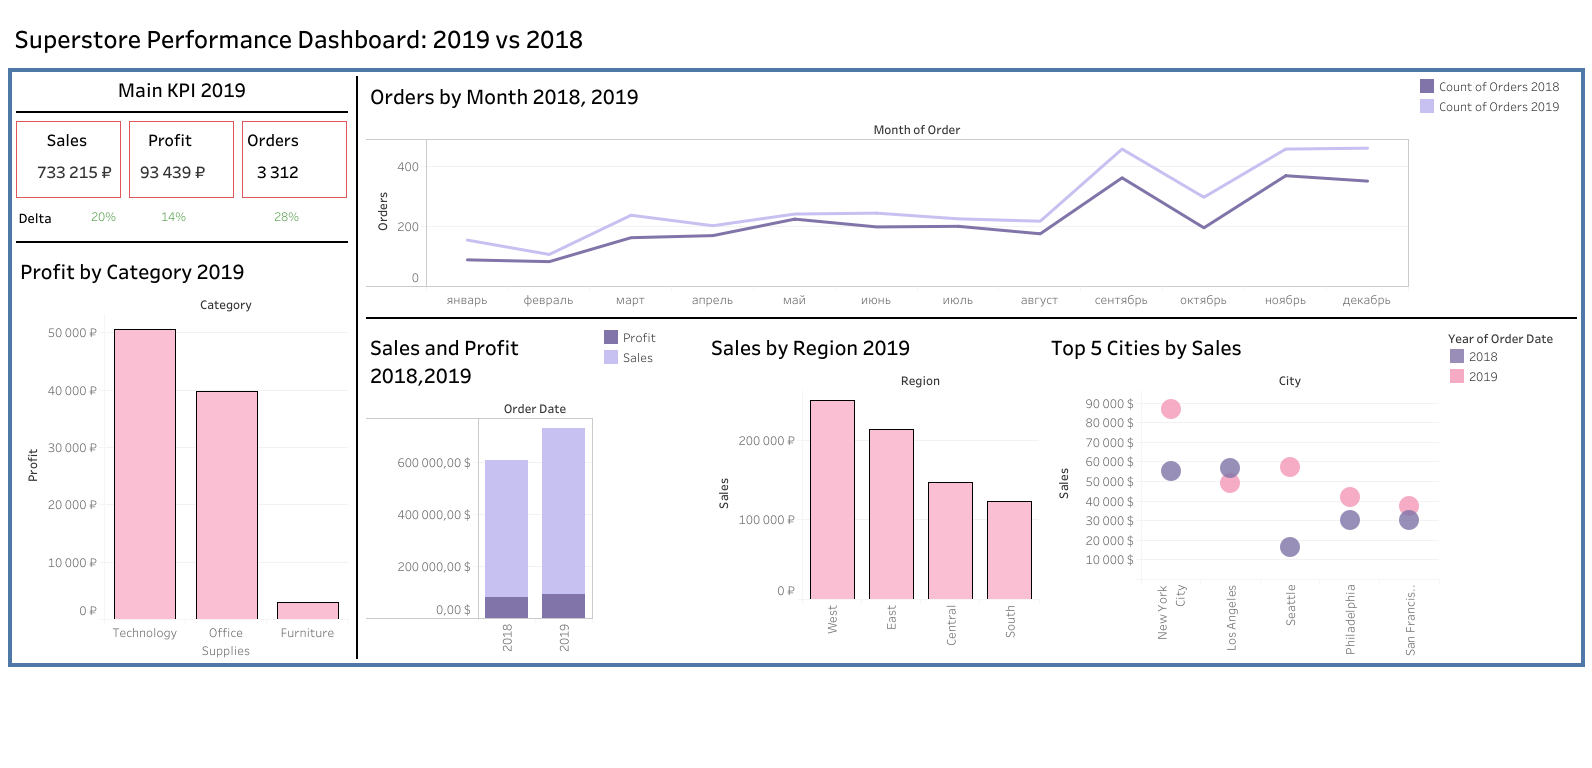

The page's visual inventory and layout, read from the dashboard file:
{"tool":"tableau","page":{"name":"Dashboard","canvas":[1000,1000],"units":"permille","ordinal":0},"visuals":[{"type":"text","box":[5,10.4,990,78]},{"type":"text","box":[7.5,93.6,213.4,45.5]},{"type":"blank","box":[221,93.6,6.3,768.5]},{"type":"worksheet","title":"Orders by Month 2018, 2019","mark":"Line","rows":["Calculation_15903349246447653","Calculation_15903349246312484"],"cols":["Calculation_15903349419372587"],"box":[227.2,93.6,659.8,313.4]},{"type":"legend","title":"Orders by Month 2018, 2019","param":"[federated.06gslv60h0hfwl1a4df750sn2kqw].[:Measure Names]","box":[887,93.6,105.5,313.4]},{"type":"blank","box":[7.5,139.1,213.4,13]},{"type":"worksheet","title":"Sales 2019","mark":"Automatic","box":[7.5,152.1,70.9,110.5]},{"type":"worksheet","title":"Profit 2019","mark":"Automatic","box":[78.5,152.1,70.9,110.5]},{"type":"worksheet","title":"Orders 2019","mark":"Text","box":[149.4,152.1,70.9,110.5]},{"type":"text","box":[7.5,262.7,28.2,39]},{"type":"worksheet","title":"Sales Diff","mark":"Automatic","box":[35.8,262.7,43.9,39]},{"type":"worksheet","title":"Profit Diff","mark":"Automatic","box":[79.7,262.7,70.9,39]},{"type":"worksheet","title":"Orders Diff","mark":"Automatic","box":[150.7,262.7,61.5,39]},{"type":"blank","box":[7.5,308.2,213.4,13]},{"type":"worksheet","title":"Profit by Category 2019","mark":"Bar","rows":["Calculation_15903349243469856"],"cols":["Category"],"box":[7.5,321.2,213.4,541]},{"type":"blank","box":[227.2,407,765.2,13]},{"type":"worksheet","title":"Sales and Profit 2018,2019","mark":"Bar","rows":["Sales","Profit"],"cols":["Order Date"],"box":[227.2,420,147.7,442.1]},{"type":"legend","title":"Sales and Profit 2018,2019","param":"[federated.06gslv60h0hfwl1a4df750sn2kqw].[:Measure Names]","box":[375,420,66.5,442.1]},{"type":"worksheet","title":"Sales by Region 2019","mark":"Automatic","rows":["Calculation_15903349230706710"],"cols":["Region"],"box":[441.5,420,213.2,442.1]},{"type":"worksheet","title":"Top 5 Cities by Sales","mark":"Circle","rows":["Sales"],"cols":["City"],"box":[654.8,420,251,442.1]},{"type":"legend","title":"Top 5 Cities by Sales","param":"[federated.06gslv60h0hfwl1a4df750sn2kqw].[yr:Order Date:ok]","box":[905.8,420,86.6,442.1]}]}

Visuals, with their boxes on the dashboard's canvas, which has no fixed pixel size, in thousandths of its width and height (x1, y1, x2, y2). These are canvas units, not pixel positions in the 1592x768 screenshot, which may show the page scaled, cropped or inside an application window:
text: (x1=5, y1=10, x2=995, y2=88)
text: (x1=8, y1=94, x2=221, y2=139)
blank: (x1=221, y1=94, x2=227, y2=862)
"Orders by Month 2018, 2019" worksheet (Line marks): (x1=227, y1=94, x2=887, y2=407)
"Orders by Month 2018, 2019" legend: (x1=887, y1=94, x2=992, y2=407)
blank: (x1=8, y1=139, x2=221, y2=152)
"Sales 2019" worksheet: (x1=8, y1=152, x2=78, y2=263)
"Profit 2019" worksheet: (x1=78, y1=152, x2=149, y2=263)
"Orders 2019" worksheet (Text marks): (x1=149, y1=152, x2=220, y2=263)
text: (x1=8, y1=263, x2=36, y2=302)
"Sales Diff" worksheet: (x1=36, y1=263, x2=80, y2=302)
"Profit Diff" worksheet: (x1=80, y1=263, x2=151, y2=302)
"Orders Diff" worksheet: (x1=151, y1=263, x2=212, y2=302)
blank: (x1=8, y1=308, x2=221, y2=321)
"Profit by Category 2019" worksheet (Bar marks): (x1=8, y1=321, x2=221, y2=862)
blank: (x1=227, y1=407, x2=992, y2=420)
"Sales and Profit 2018,2019" worksheet (Bar marks): (x1=227, y1=420, x2=375, y2=862)
"Sales and Profit 2018,2019" legend: (x1=375, y1=420, x2=442, y2=862)
"Sales by Region 2019" worksheet: (x1=442, y1=420, x2=655, y2=862)
"Top 5 Cities by Sales" worksheet (Circle marks): (x1=655, y1=420, x2=906, y2=862)
"Top 5 Cities by Sales" legend: (x1=906, y1=420, x2=992, y2=862)
